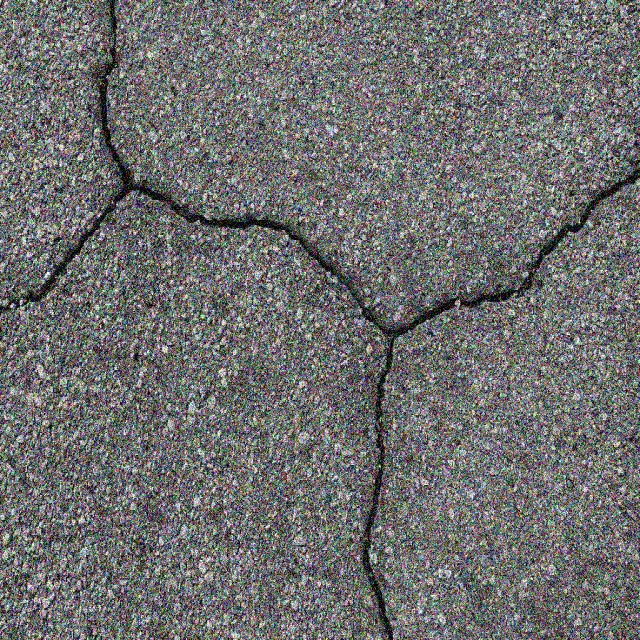SurfaceCrack: (0, 105, 639, 638)
